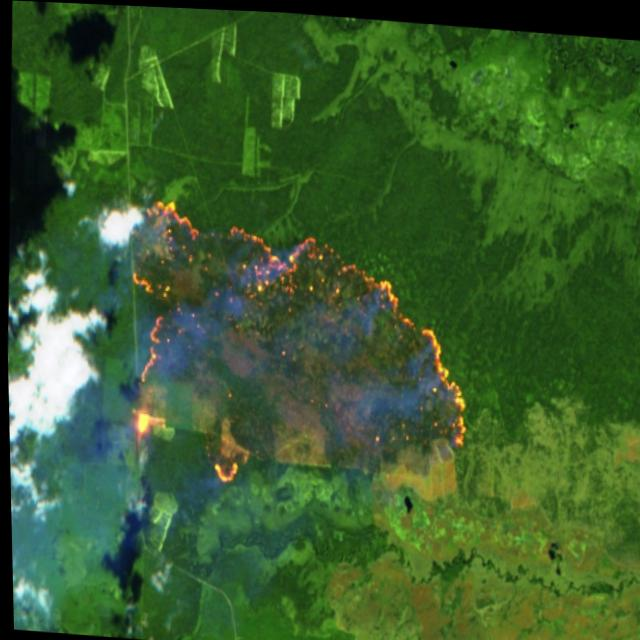fire: (114, 190, 479, 501)
